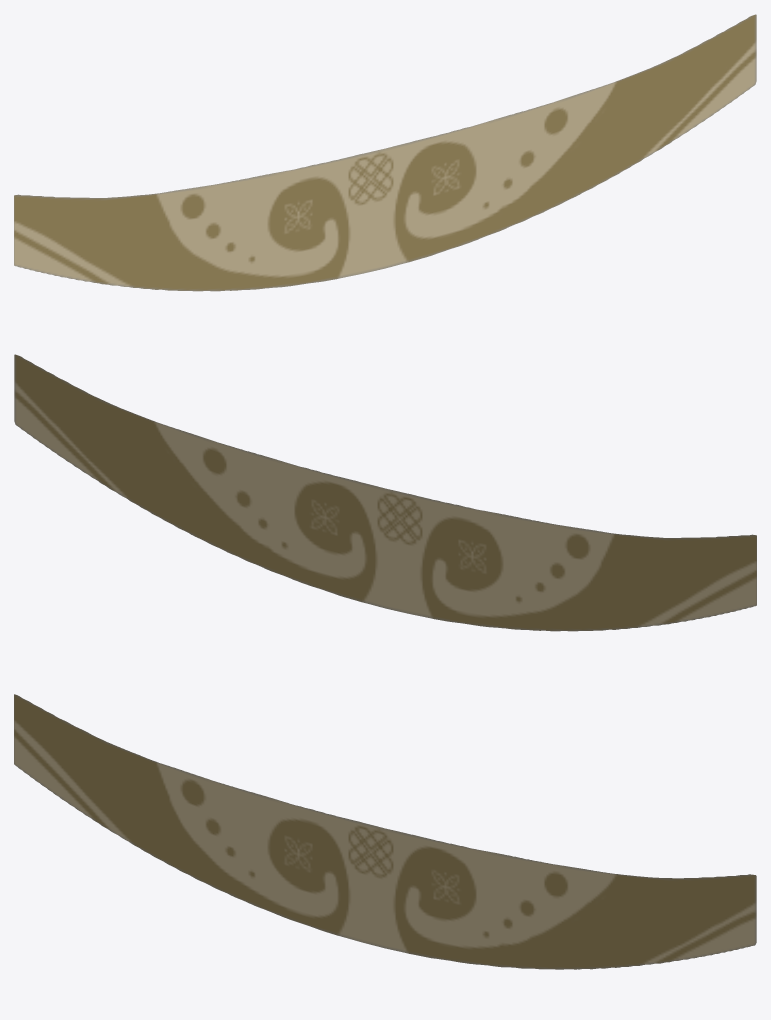
File: Banderole_02.fbx
The picture shows the model from 3 angles, top to bottom: view 1: azimuth 30°, elevation 25°; view 2: azimuth 150°, elevation 25°; view 3: azimuth 330°, elevation 25°; orthographic projection.
Parts seen in each view (by area): view 1: pPlane6; view 2: pPlane6; view 3: pPlane6.
Part boxes in pixels (<box>): pPlane6: <box>14,14,756,291</box>; pPlane6: <box>14,354,756,631</box>; pPlane6: <box>14,694,756,969</box>.
Bounding box in the file's own units: 7.6 × 1.62 × 0.
